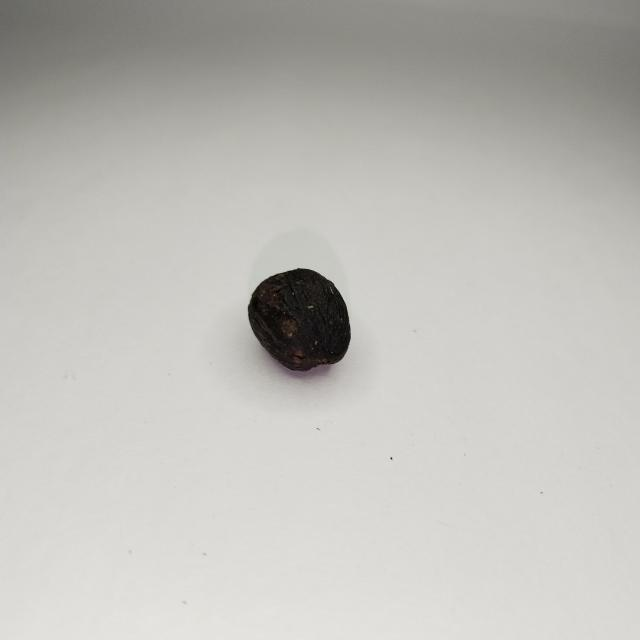Danado: (248, 268, 350, 371)
